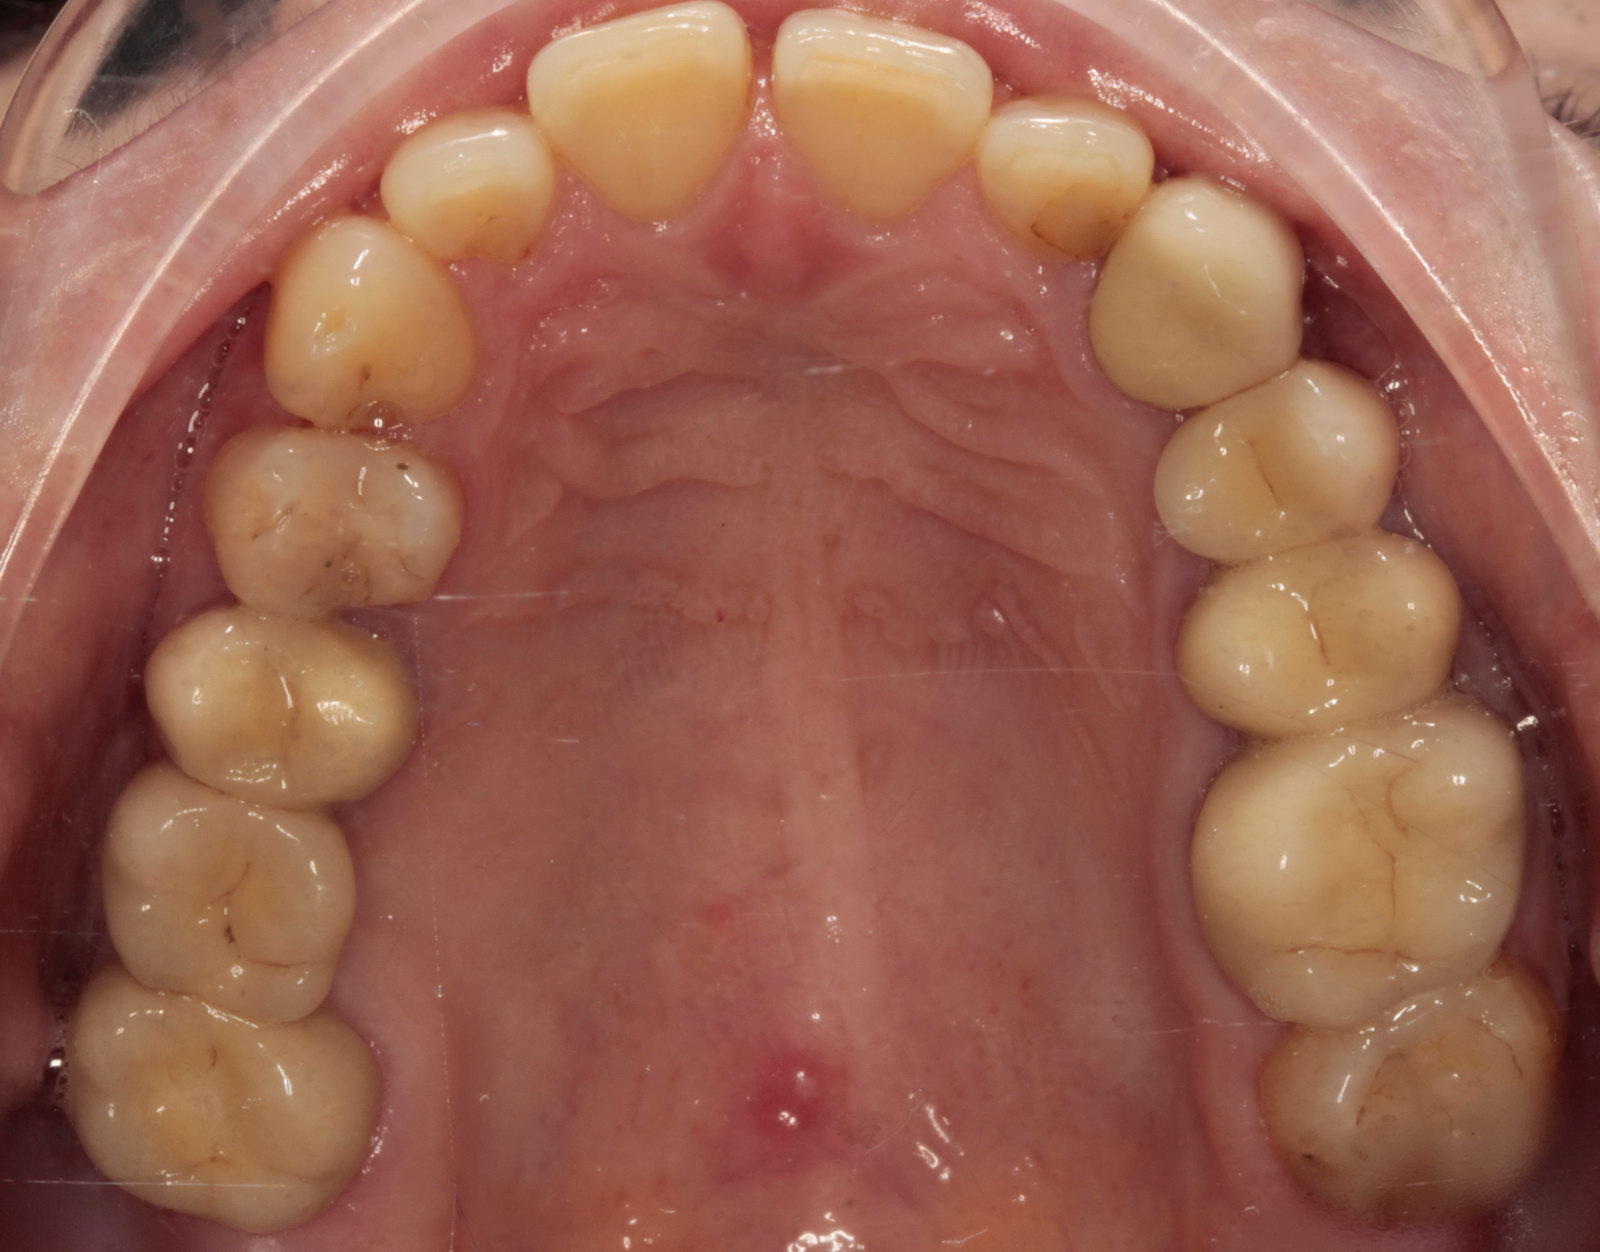UL1BC_decay: (1127, 361, 1408, 564)
UL1M_decay: (1181, 707, 1519, 1030)
UL2BC_healthy: (1157, 539, 1464, 712)
UL2M_decay: (1252, 961, 1566, 1223)
ULCI_healthy: (770, 1, 990, 231)
ULC_healthy: (1078, 196, 1318, 397)
ULLI_decay: (971, 77, 1144, 248)
UR1BC_decay: (205, 416, 457, 616)
UR1M_decay: (84, 762, 383, 1016)
UR2BC_healthy: (126, 616, 427, 816)
UR2M_healthy: (53, 974, 397, 1226)
URCI_healthy: (523, 10, 764, 222)
URC_decay: (260, 227, 479, 445)
URLI_healthy: (366, 103, 556, 253)
